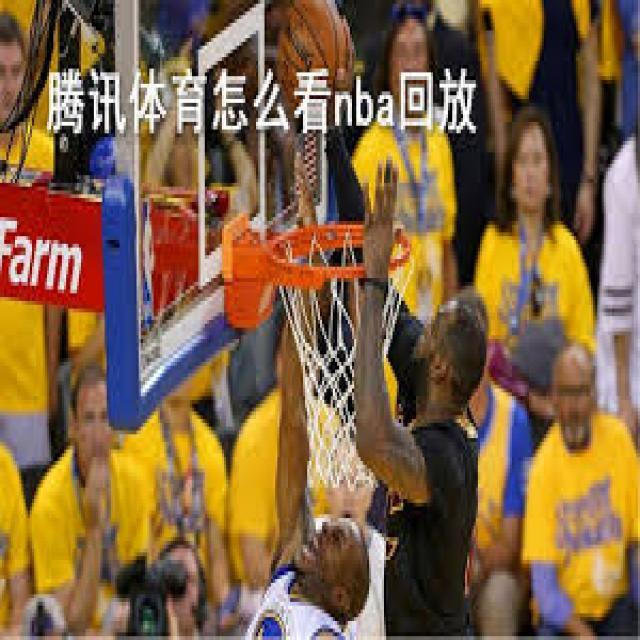rim: (280, 0, 354, 118)
